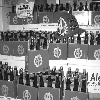beer: (27, 38, 49, 72)
